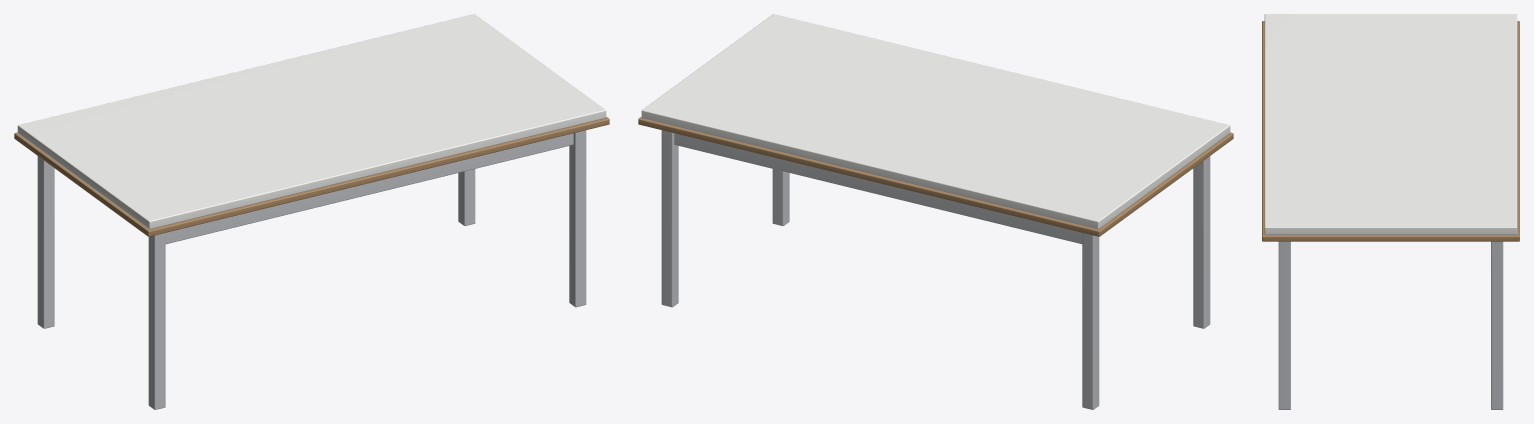
File: SM_ExerciseTable.fbx
The picture shows the model from 3 angles, left to right: view 1: azimuth 30°, elevation 25°; view 2: azimuth 150°, elevation 25°; view 3: azimuth 270°, elevation 25°; orthographic projection. The views are drawn at different scales.
Parts seen in each view (by area): view 1: SM_ExerciseTable; view 2: SM_ExerciseTable; view 3: SM_ExerciseTable.
Boxes of the visible parts, <box> form: SM_ExerciseTable: <box>14,14,609,409</box>; SM_ExerciseTable: <box>638,14,1233,409</box>; SM_ExerciseTable: <box>1262,14,1519,409</box>.
Size of the model in its own units: 2.02 by 0.825 by 1.02.
